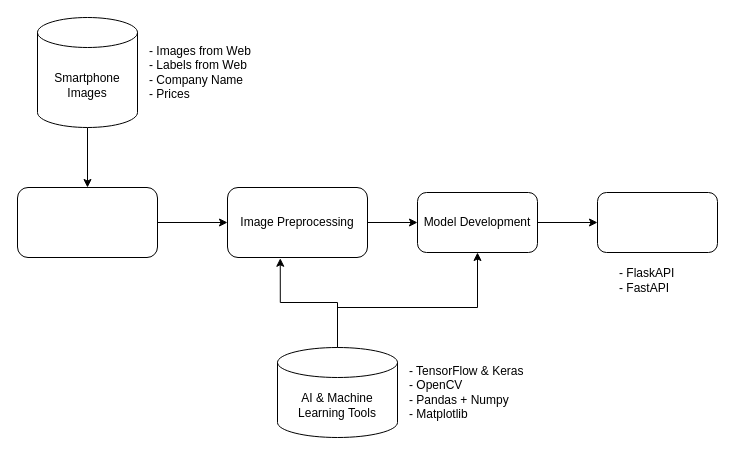
Some shapes in this 735 by 455 pixel diagram are drawn without their labels. Each missing label, with the centre of its shape:
"Data Collection" goes at point 87,222.
"Model Deployment" goes at point 657,222.
